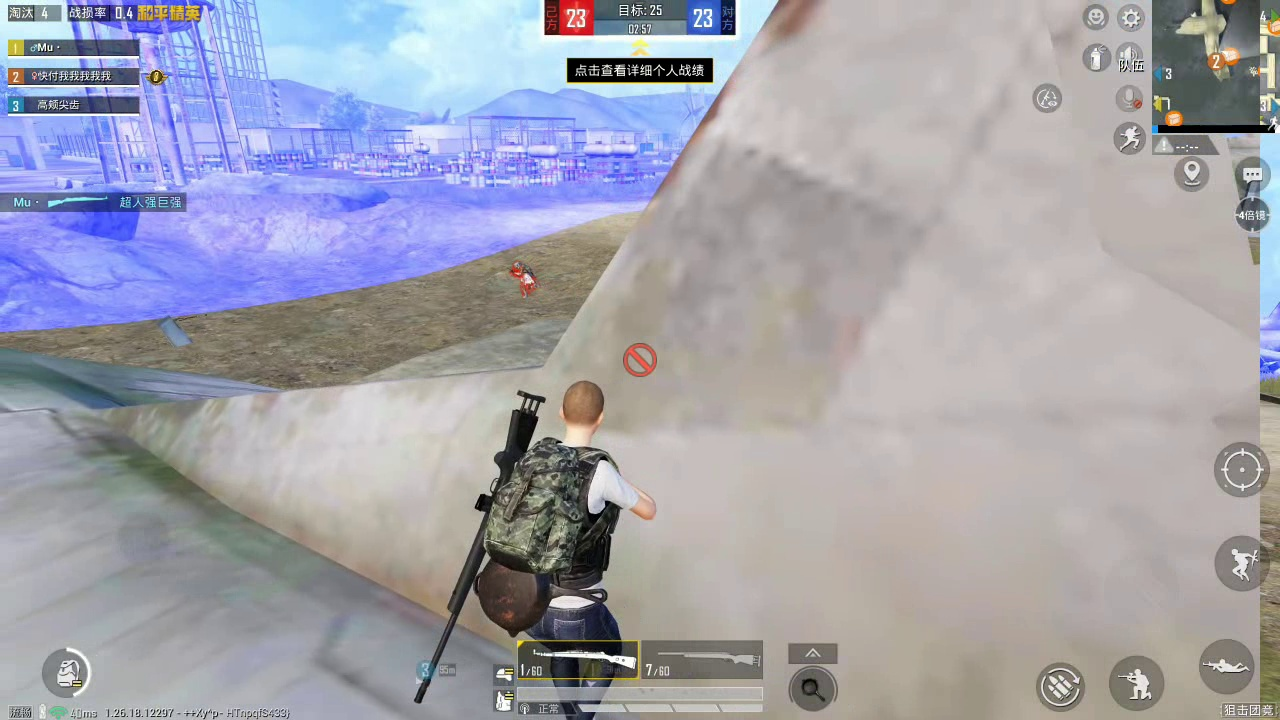enemy: (511, 260, 536, 295)
